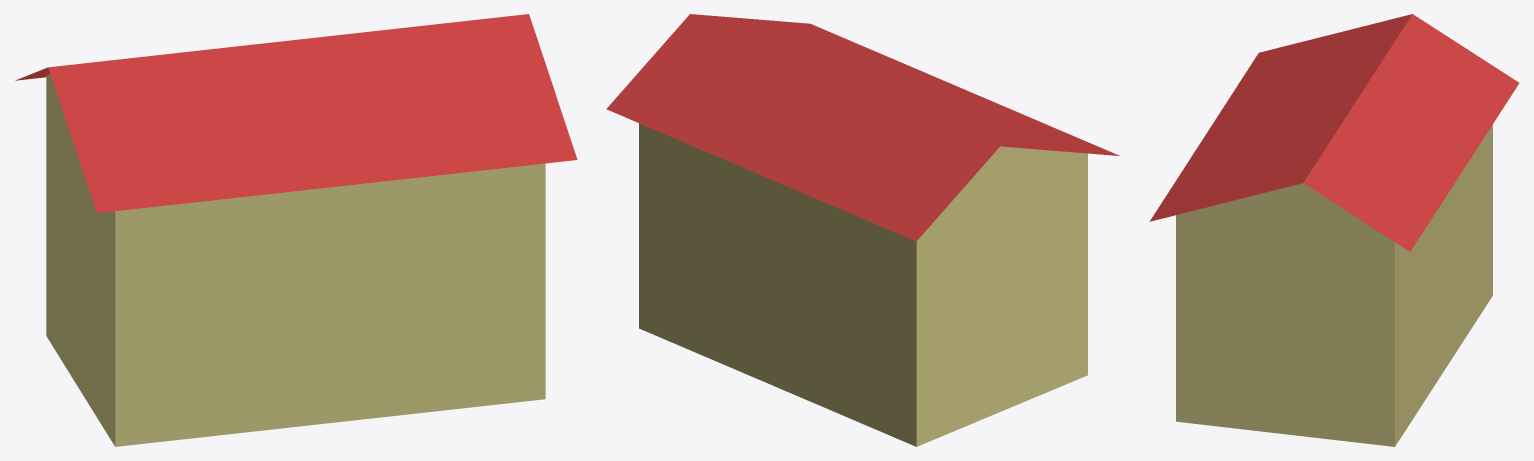
3 views of the same model, side by side, from view 1: azimuth 30°, elevation 25°; view 2: azimuth 150°, elevation 25°; view 3: azimuth 270°, elevation 25° (orthographic). The views are drawn at different scales.
Bounding box in the file's own units: 16.28 × 12.79 × 10.01.
